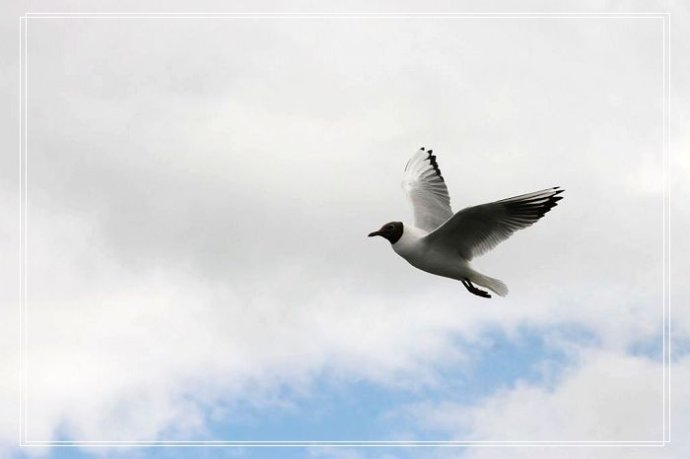bird: (360, 147, 567, 299)
